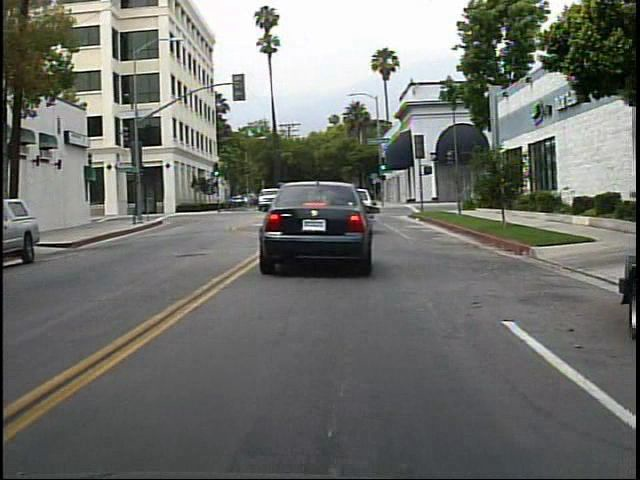person: (307, 181, 333, 221)
